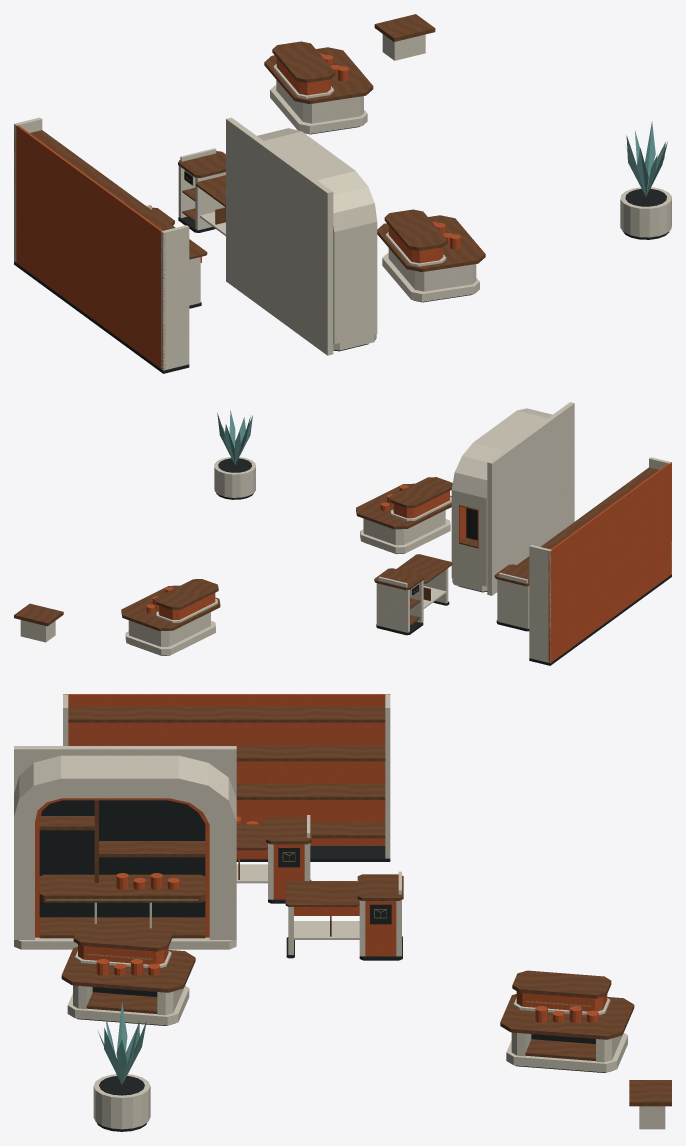
File: SHOP_D09_P100_A366__fitout.glb
3 views of the same model, one above another, from view 1: azimuth 30°, elevation 25°; view 2: azimuth 150°, elevation 25°; view 3: azimuth 270°, elevation 25° (orthographic). The views are drawn at different scales.
Parts seen in each view (by area): view 1: SHOP_D09_P100_A366__fitout__ivory_enamel, SHOP_D09_P100_A366__fitout__retail_terracotta_enamel, SHOP_D09_P100_A366__fitout__warm_walnut, SHOP_D09_P100_A366__fitout__dark_rubber, SHOP_D09_P100_A366__fitout__quiet_teal; view 2: SHOP_D09_P100_A366__fitout__ivory_enamel, SHOP_D09_P100_A366__fitout__retail_terracotta_enamel, SHOP_D09_P100_A366__fitout__warm_walnut, SHOP_D09_P100_A366__fitout__dark_rubber, SHOP_D09_P100_A366__fitout__quiet_teal; view 3: SHOP_D09_P100_A366__fitout__warm_walnut, SHOP_D09_P100_A366__fitout__ivory_enamel, SHOP_D09_P100_A366__fitout__retail_terracotta_enamel, SHOP_D09_P100_A366__fitout__dark_rubber, SHOP_D09_P100_A366__fitout__quiet_teal, SHOP_D09_P100_A366__fitout__champagne_metal.
Boxes of the visible parts, box(x1,y1,x2,y2) form: SHOP_D09_P100_A366__fitout__ivory_enamel: box(14, 34, 671, 370); SHOP_D09_P100_A366__fitout__retail_terracotta_enamel: box(14, 53, 461, 369); SHOP_D09_P100_A366__fitout__warm_walnut: box(30, 14, 485, 271); SHOP_D09_P100_A366__fitout__dark_rubber: box(14, 126, 669, 373); SHOP_D09_P100_A366__fitout__quiet_teal: box(626, 121, 667, 196); SHOP_D09_P100_A366__fitout__ivory_enamel: box(20, 402, 671, 663); SHOP_D09_P100_A366__fitout__retail_terracotta_enamel: box(146, 462, 671, 662); SHOP_D09_P100_A366__fitout__warm_walnut: box(14, 467, 658, 631); SHOP_D09_P100_A366__fitout__dark_rubber: box(129, 458, 671, 665); SHOP_D09_P100_A366__fitout__quiet_teal: box(217, 410, 252, 464); SHOP_D09_P100_A366__fitout__warm_walnut: box(39, 707, 671, 1106); SHOP_D09_P100_A366__fitout__ivory_enamel: box(14, 694, 665, 1129); SHOP_D09_P100_A366__fitout__retail_terracotta_enamel: box(35, 694, 607, 1022); SHOP_D09_P100_A366__fitout__dark_rubber: box(39, 800, 612, 1131); SHOP_D09_P100_A366__fitout__quiet_teal: box(98, 1001, 146, 1084); SHOP_D09_P100_A366__fitout__champagne_metal: box(46, 852, 591, 1006).
Bounding box in the file's own units: 10.28 × 3 × 10.05.
Materials: 6 (5 with a texture image).
